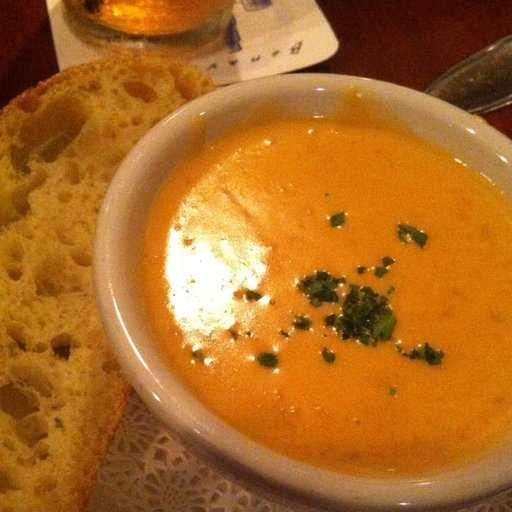soup: (110, 109, 512, 478)
